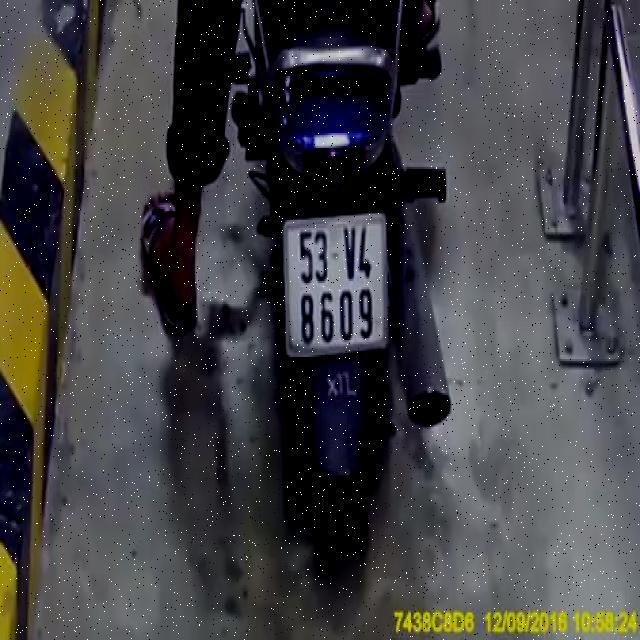0: (338, 286, 357, 343)
3: (314, 228, 330, 286)
4: (358, 222, 377, 280)
5: (296, 227, 315, 284)
6: (318, 288, 338, 348)
8: (298, 290, 317, 344)
9: (358, 284, 375, 345)
V: (346, 227, 358, 284)
